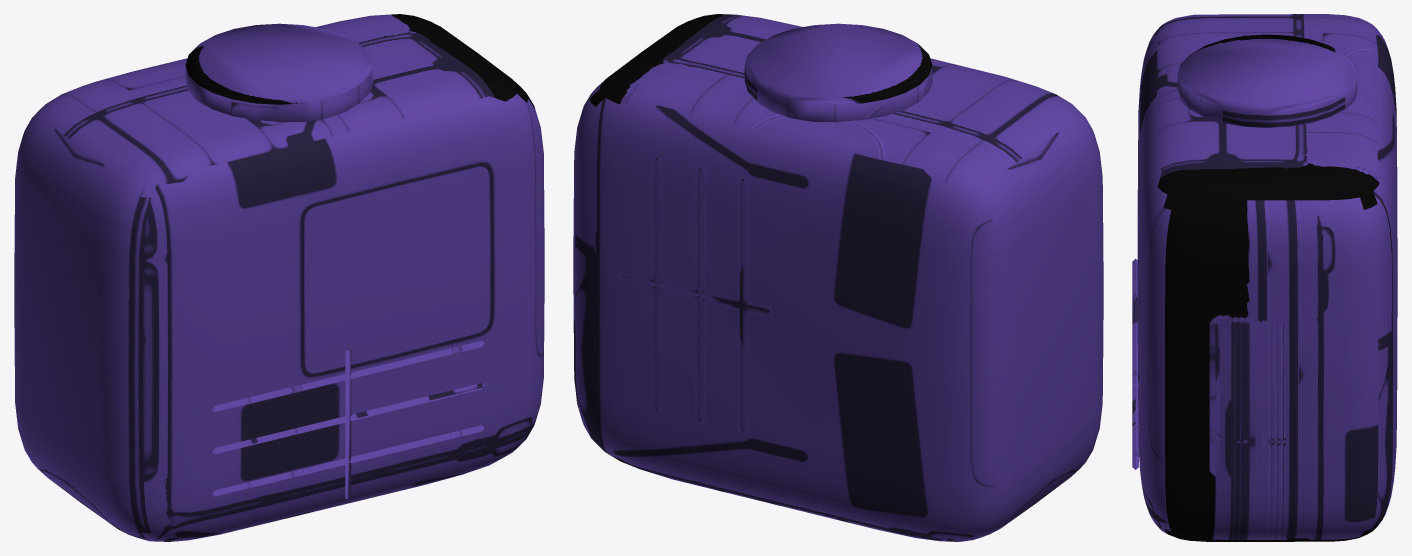
The model's file is Estela_Torso.fbx.
3 renders of one model, left to right at view 1: azimuth 30°, elevation 25°; view 2: azimuth 150°, elevation 25°; view 3: azimuth 270°, elevation 25°, orthographic. The views are drawn at different scales.
Visible parts, largest first — view 1: Estela_Torso; view 2: Estela_Torso; view 3: Estela_Torso.
Boxes of the visible parts, box(x1,y1,x2,y2) form: Estela_Torso: box(14, 14, 544, 541); Estela_Torso: box(573, 14, 1103, 541); Estela_Torso: box(1132, 14, 1397, 541).
Size of the model in its own units: 2.03 by 1.83 by 1.11.
